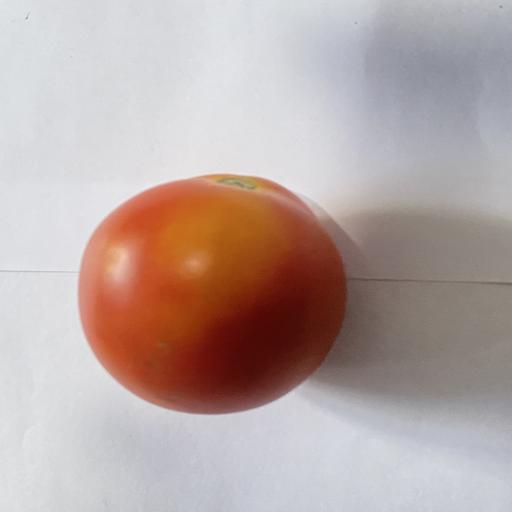ripe: (79, 174, 346, 413)
